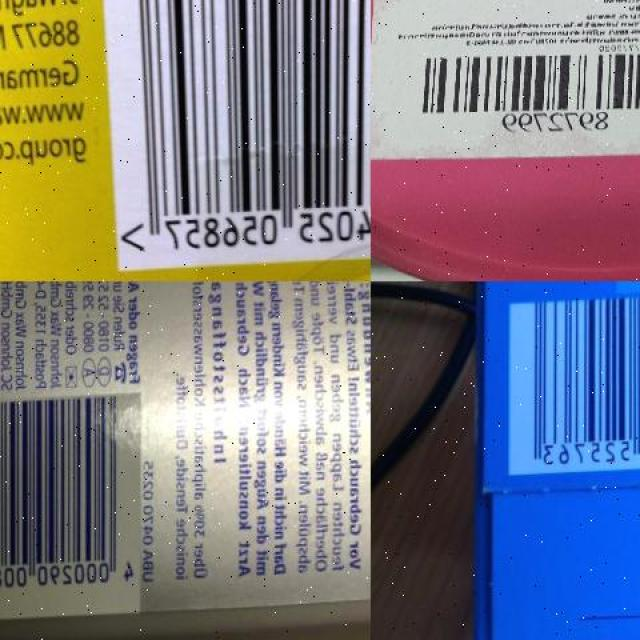Barcode: (102, 0, 370, 276), (0, 396, 141, 618), (400, 40, 640, 141), (508, 293, 640, 476)
